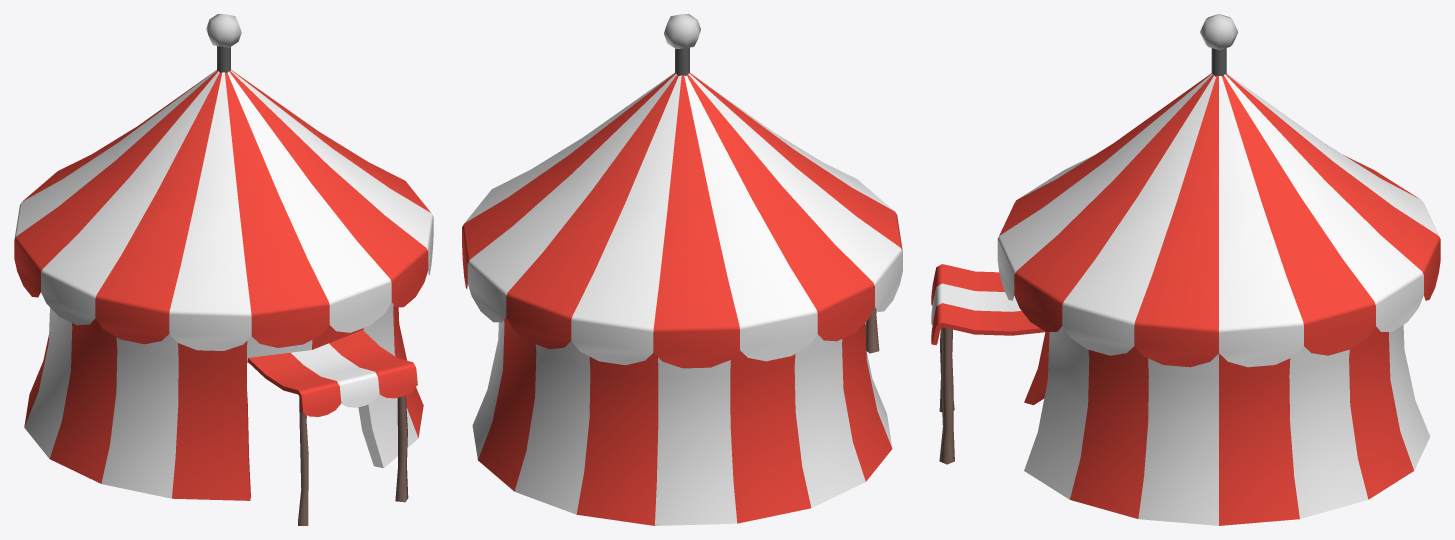
The model's file is tent_002.gltf.
The picture shows the model from 3 angles, left to right: view 1: azimuth 30°, elevation 25°; view 2: azimuth 150°, elevation 25°; view 3: azimuth 270°, elevation 25°; orthographic projection. The views are drawn at different scales.
Visible parts, largest first — view 1: tent_002; view 2: tent_002; view 3: tent_002.
Boxes of the visible parts, x1=… form: tent_002: x1=14, y1=14, x2=433, y2=525; tent_002: x1=462, y1=14, x2=902, y2=525; tent_002: x1=931, y1=14, x2=1440, y2=525.
Size of the model in its own units: 6.82 by 7.17 by 7.84.
1 material, 1 textured.
